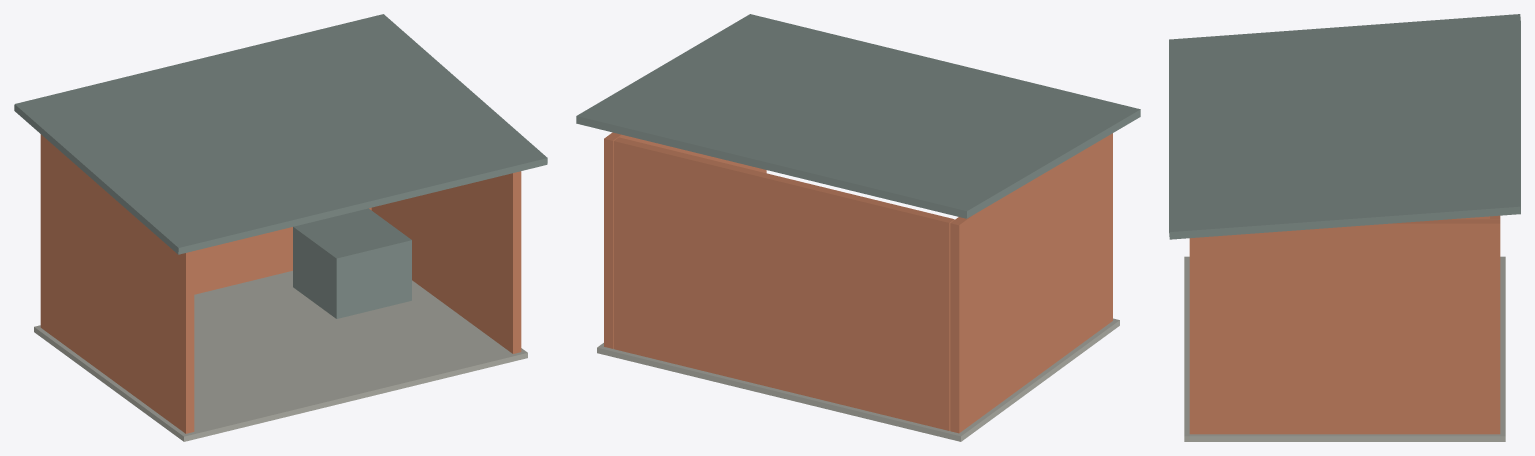
Rendered from SM_CasetaAperos_v2_Ladrillo_LOD1.fbx.
3 renders of one model, left to right at view 1: azimuth 30°, elevation 25°; view 2: azimuth 150°, elevation 25°; view 3: azimuth 270°, elevation 25°, orthographic. The views are drawn at different scales.
Parts seen in each view (by area): view 1: SM_huerta_nules_v22_LOD1; view 2: SM_huerta_nules_v22_LOD1; view 3: SM_huerta_nules_v22_LOD1.
Part boxes in pixels (x1=…): SM_huerta_nules_v22_LOD1: x1=14, y1=14, x2=547, y2=441; SM_huerta_nules_v22_LOD1: x1=576, y1=14, x2=1140, y2=441; SM_huerta_nules_v22_LOD1: x1=1169, y1=14, x2=1520, y2=441.
Bounding box in the file's own units: 4.4 × 2.58 × 3.4.
